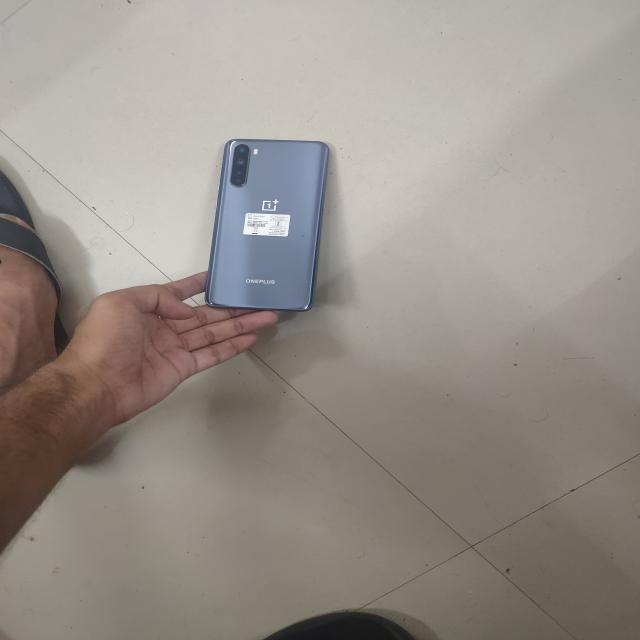Phone: (201, 137, 331, 316)
